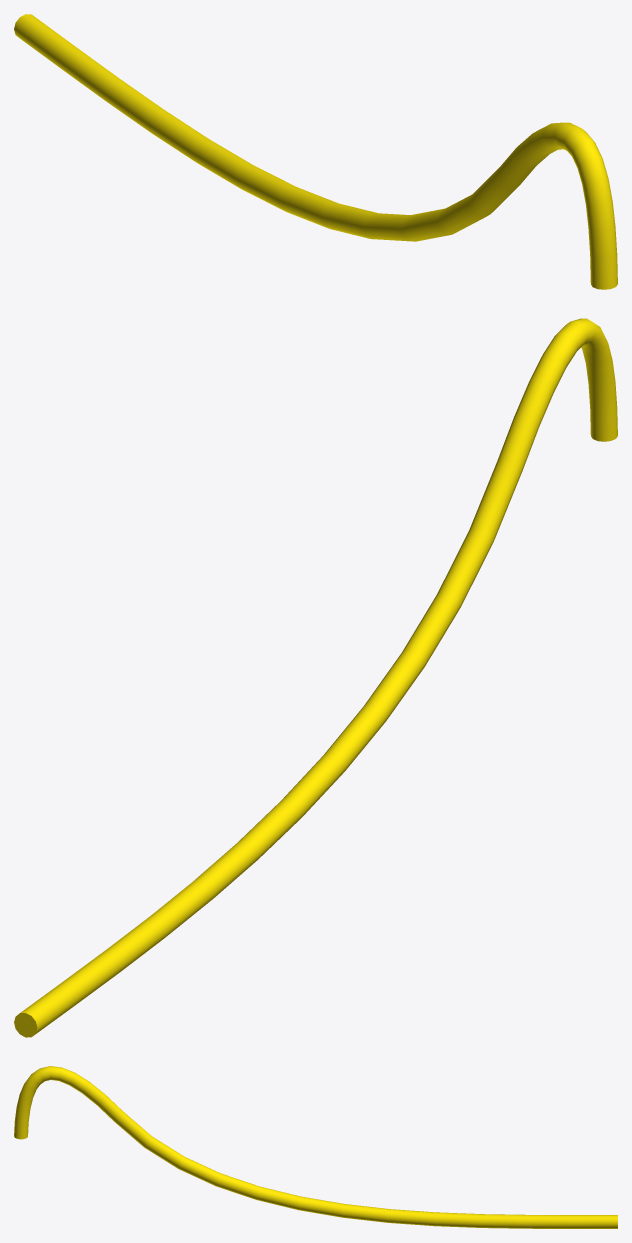
Rendered from SnufferHandle.glb.
The picture shows the model from 3 angles, top to bottom: view 1: azimuth 30°, elevation 25°; view 2: azimuth 150°, elevation 25°; view 3: azimuth 270°, elevation 25°; orthographic projection. The views are drawn at different scales.
Parts seen in each view (by area): view 1: BézierCurve; view 2: BézierCurve; view 3: BézierCurve.
Boxes of the visible parts, x1,y1,x2,y2 form: BézierCurve: [14, 14, 617, 289]; BézierCurve: [14, 318, 617, 1037]; BézierCurve: [14, 1066, 617, 1228].
Size of the model in its own units: 0.04 by 0.5098 by 1.73.
